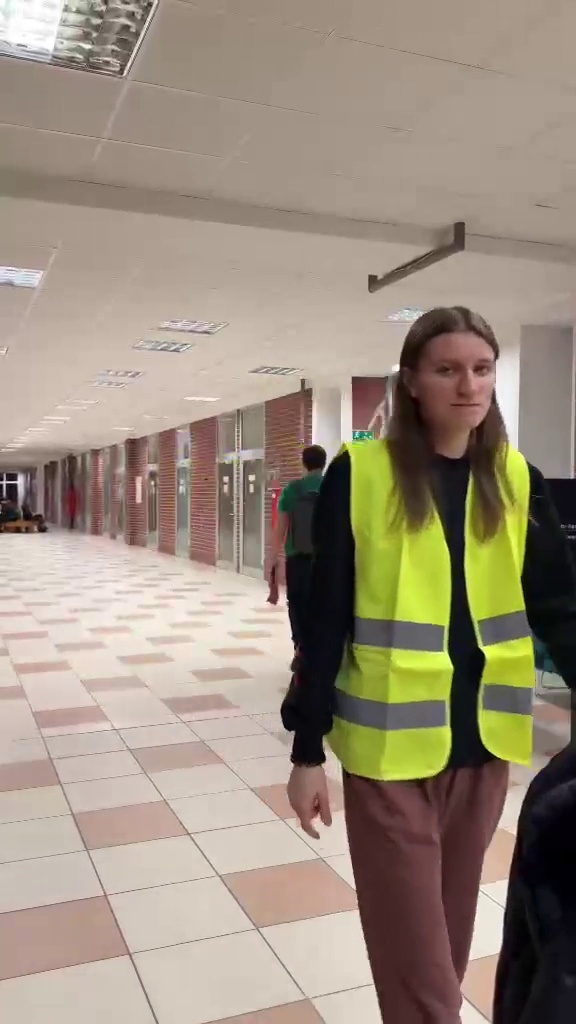vest: (279, 306, 566, 997)
